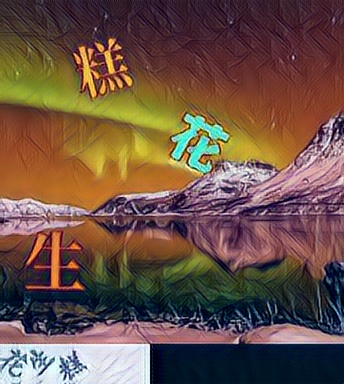B8E2: (70, 37, 135, 101)
BBA8: (166, 110, 231, 174)
C9FA: (22, 226, 87, 290)
